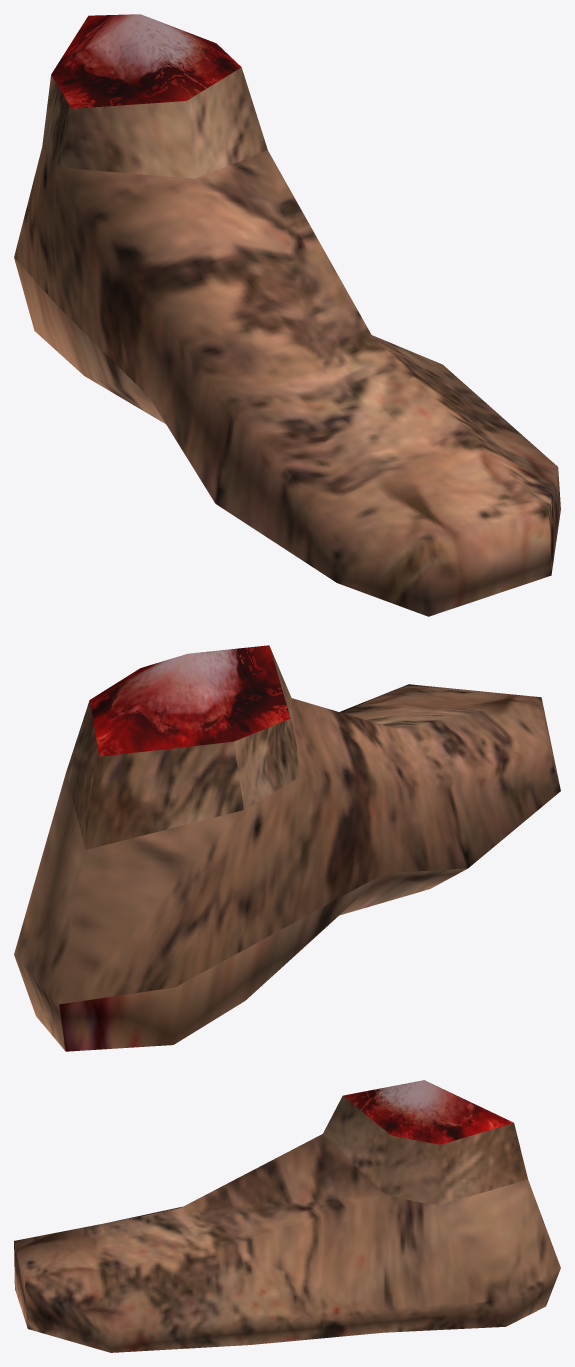
File: lt_foot.fbx
3 views of the same model, one above another, from view 1: azimuth 30°, elevation 25°; view 2: azimuth 150°, elevation 25°; view 3: azimuth 270°, elevation 25° (orthographic). The views are drawn at different scales.
Parts seen in each view (by area): view 1: lt_foot_gib; view 2: lt_foot_gib; view 3: lt_foot_gib.
Boxes of the visible parts, box(x1,y1,x2,y2) form: lt_foot_gib: box(14, 14, 560, 616); lt_foot_gib: box(14, 645, 560, 1051); lt_foot_gib: box(14, 1080, 560, 1352).
Size of the model in its own units: 0.1271 by 0.1578 by 0.3431.
